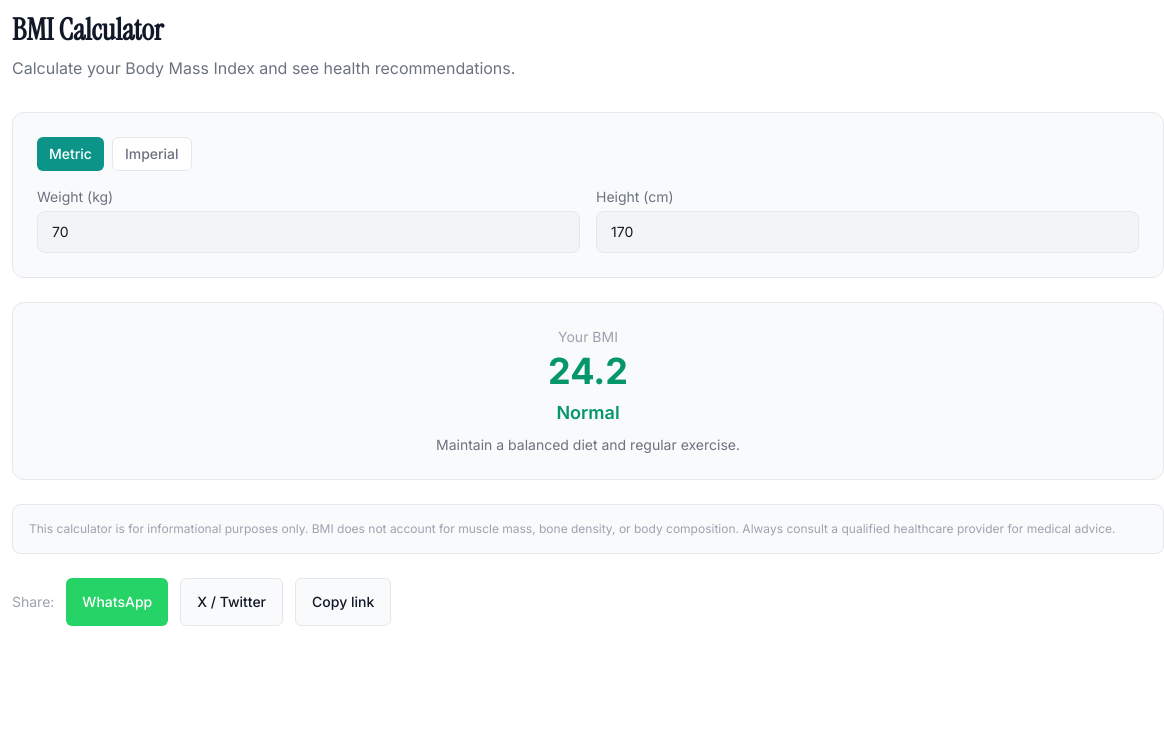
BmiCalculator › switches to imperial units
Click the button "imperial": (152, 154) [112, 137, 192, 171]
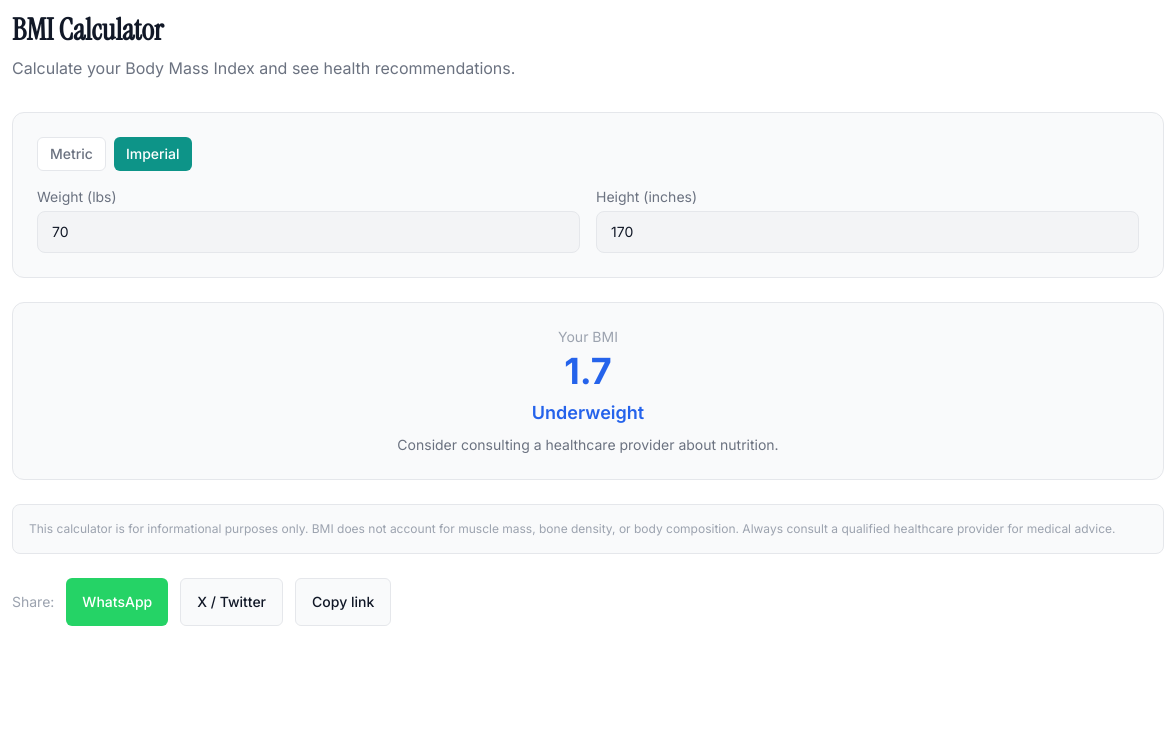
Expected: the text "Weight (lbs)" is shown, [37, 188, 117, 205]
Expected: the text "Height (inches)" is shown, [596, 188, 697, 205]
